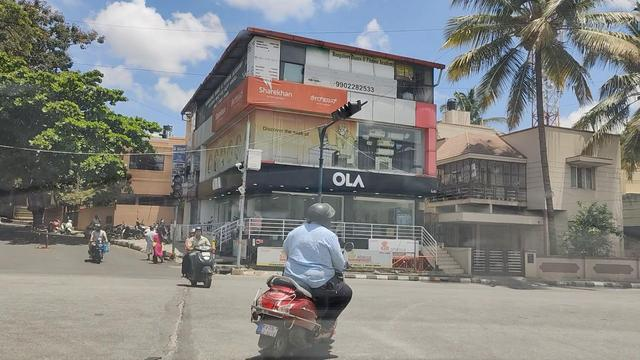LMV: (269, 226, 344, 357), (170, 228, 219, 286)
RoadDamages: (157, 297, 210, 360)
